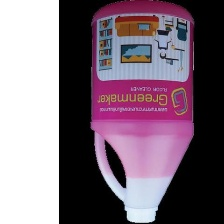cleaning_solution: (88, 0, 196, 224)
